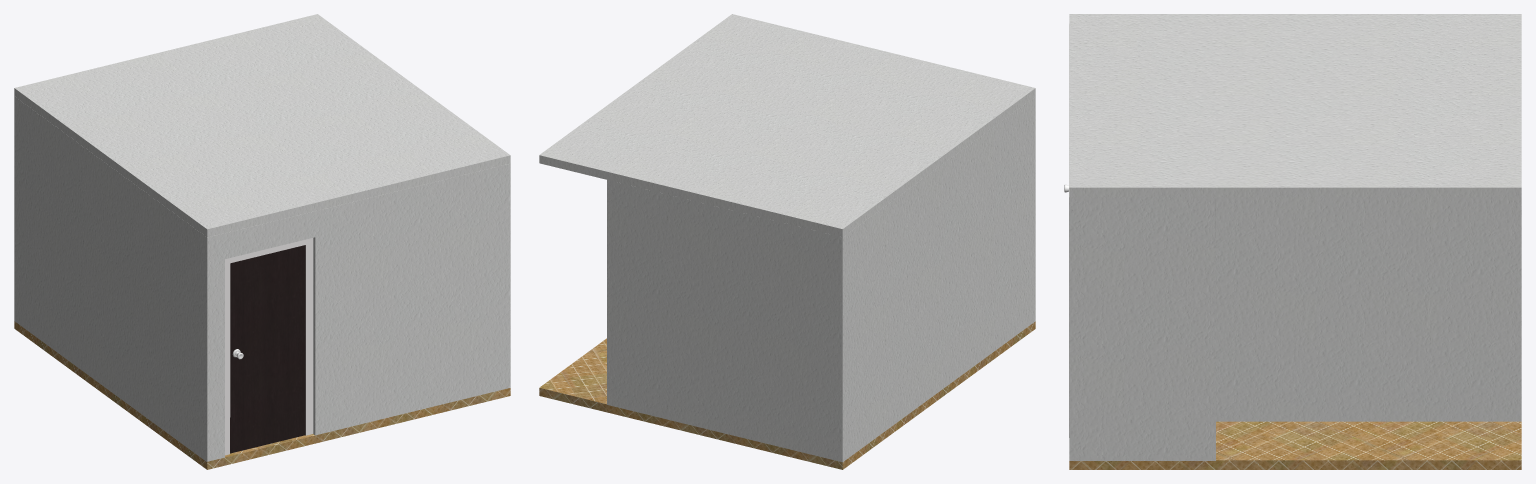
Rendered from FloorPlan419_physics.fbx.
3 views of the same model, side by side, from view 1: azimuth 30°, elevation 25°; view 2: azimuth 150°, elevation 25°; view 3: azimuth 270°, elevation 25° (orthographic). The views are drawn at different scales.
Visible parts, largest first — view 1: FP419:Walls, FP419:Ceiling, FP419:Door.015, FP419:Floor, FP419:DoorFrame.015; view 2: FP419:Walls, FP419:Ceiling, FP419:Floor; view 3: FP419:Walls, FP419:Ceiling, FP419:Floor.
Part boxes in pixels (<box>): FP419:Walls: <box>14,96,510,461</box>; FP419:Ceiling: <box>14,14,510,237</box>; FP419:Door.015: <box>230,245,305,453</box>; FP419:Floor: <box>14,321,510,469</box>; FP419:DoorFrame.015: <box>225,238,313,455</box>; FP419:Walls: <box>607,96,1035,462</box>; FP419:Ceiling: <box>539,14,1035,237</box>; FP419:Floor: <box>539,321,1035,469</box>; FP419:Walls: <box>1069,24,1521,460</box>; FP419:Ceiling: <box>1069,14,1521,197</box>; FP419:Floor: <box>1069,421,1521,469</box>.
Size of the model in its own units: 336 by 263 by 374.
